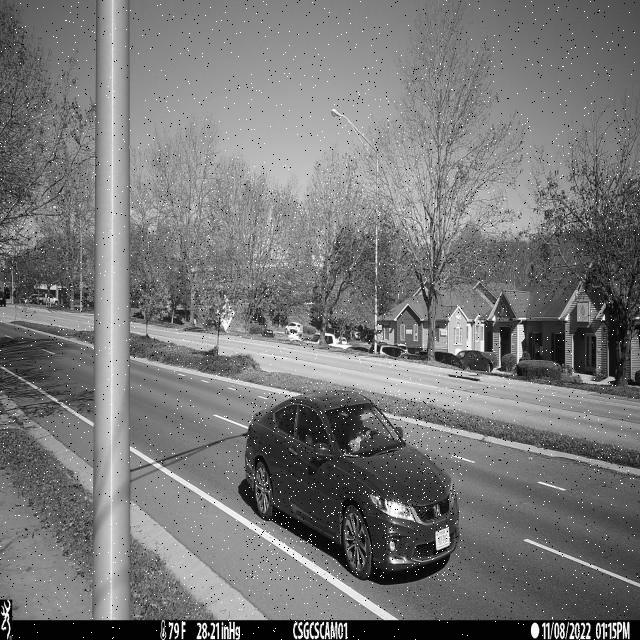Sedan: (245, 390, 462, 581)
